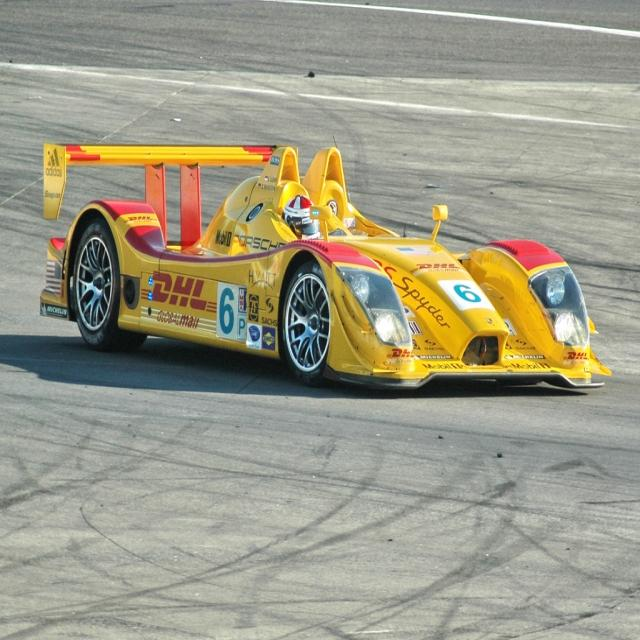dhl: (138, 269, 219, 316)
